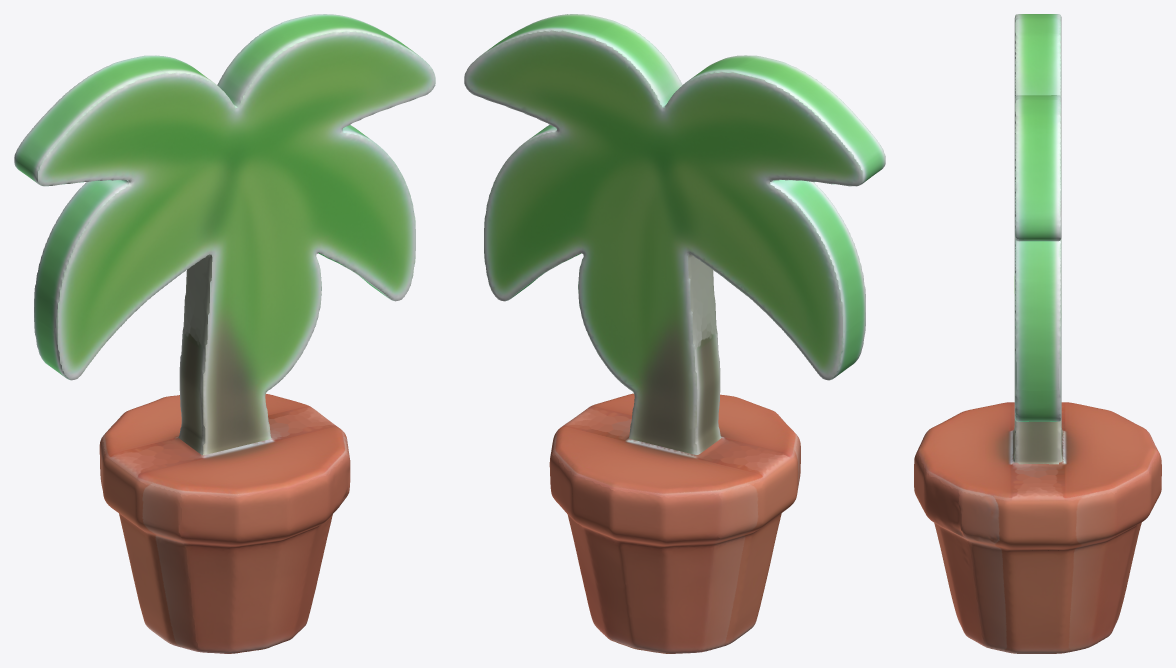
Rendered from palm.glb.
3 renders of one model, left to right at view 1: azimuth 30°, elevation 25°; view 2: azimuth 150°, elevation 25°; view 3: azimuth 270°, elevation 25°, orthographic. The views are drawn at different scales.
Parts seen in each view (by area): view 1: tmplmapa28v.ply; view 2: tmplmapa28v.ply; view 3: tmplmapa28v.ply.
Boxes of the visible parts, x1,y1,x2,y2 form: tmplmapa28v.ply: (14,14,435,653); tmplmapa28v.ply: (464,14,885,653); tmplmapa28v.ply: (914,14,1161,653).
Bounding box in the file's own units: 0.7195 × 0.9879 × 0.3981.
1 material, 1 textured.
